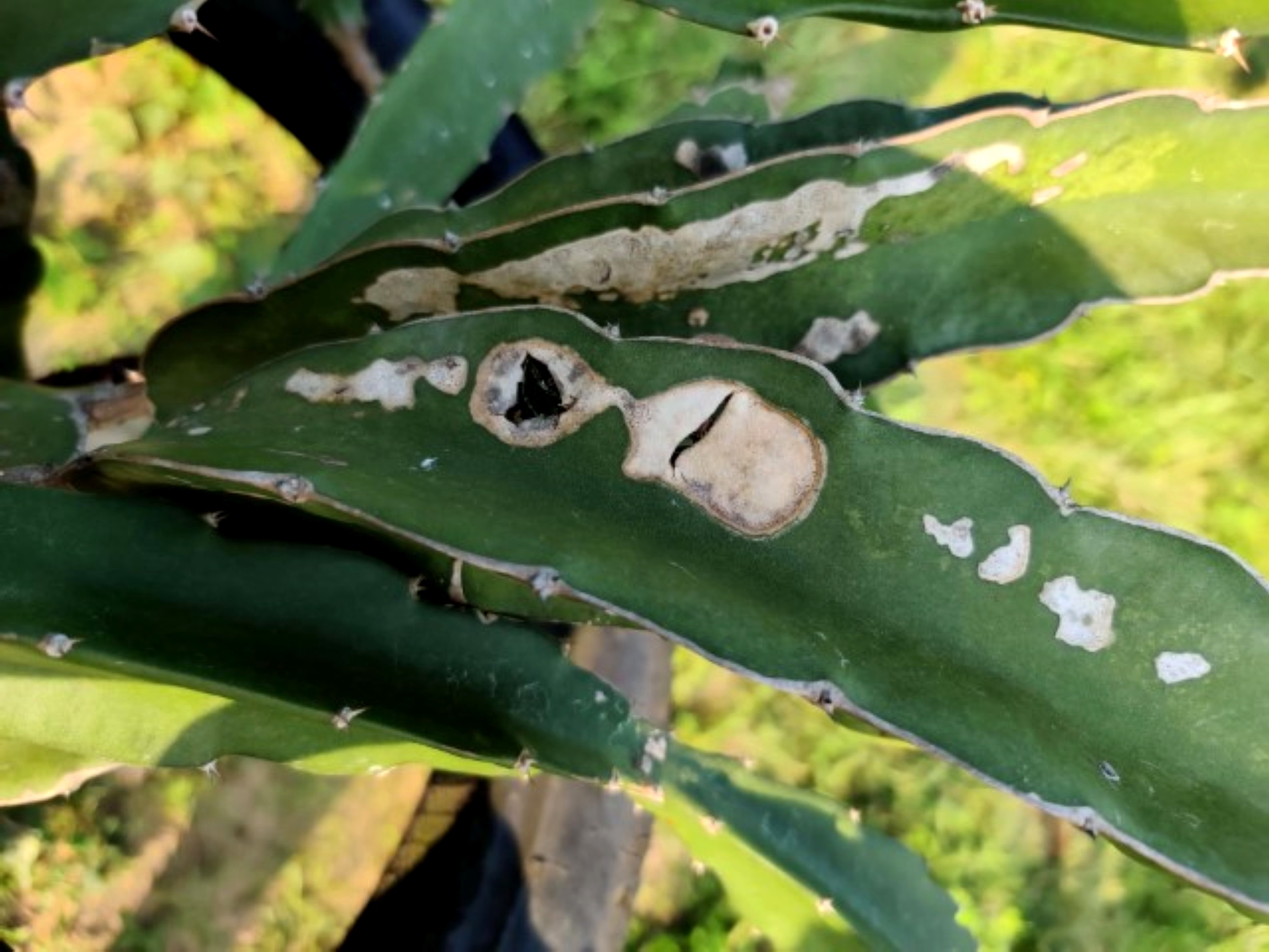stemcanker: (254, 157, 1225, 673)
